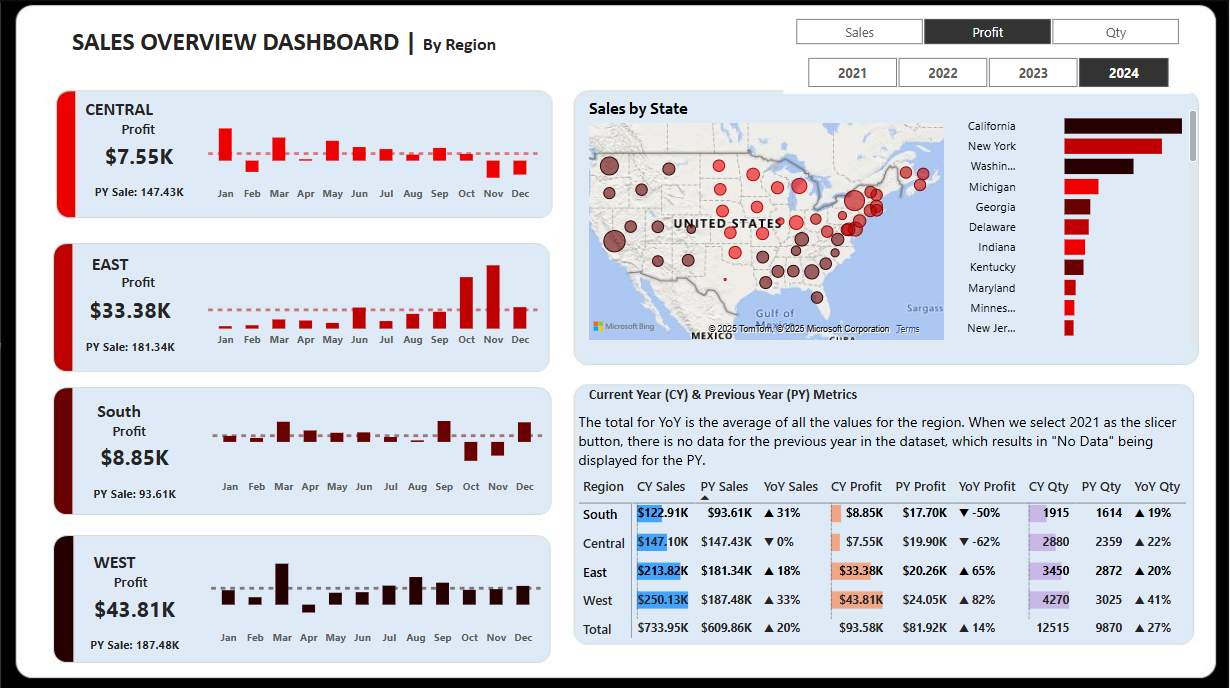

What the dashboard file says about the page in this screenshot:
{"tool":"powerbi","page":{"name":"Page 1","canvas":[1280,720],"ordinal":0},"visuals":[{"type":"slicer","fields":{"Values":["Select Metric.Select Metric"]},"box":[804.3,12.5,448.2,40.6],"z":0},{"type":"card","fields":{"Values":["Sales Data.Total Sales"]},"box":[68.7,140.6,156.2,45.3],"z":1000},{"type":"textbox","box":[79.7,96.8,90.6,43.7],"z":2000},{"type":"slicer","fields":{"Values":["Calendar Table.Year"]},"box":[817,52.5,424.4,44.5],"z":3000},{"type":"card","fields":{"Values":["Sales Data.Dynamic Title"]},"box":[79.7,118.7,132.8,35.9],"z":4000},{"type":"card","fields":{"Values":["Sales Data.PY KPI Sales"]},"box":[79.7,185.9,132.8,32.8],"z":5000},{"type":"clusteredColumnChart","fields":{"Y":["Sales Data.Total Sales"],"Category":["Calendar Table.Month"]},"box":[212.4,106.2,354.5,112.5],"z":6000},{"type":"textbox","box":[32.8,21.9,534.1,48.4],"z":7000},{"type":"card","fields":{"Values":["Sales Data.Total Sales"]},"box":[60,301.5,156.2,45.3],"z":8000},{"type":"textbox","box":[70.9,257.8,90.6,43.7],"z":9000},{"type":"card","fields":{"Values":["Sales Data.PY KPI Sales"]},"box":[70.9,346.8,132.8,32.8],"z":10000},{"type":"clusteredColumnChart","fields":{"Y":["Sales Data.Total Sales"],"Category":["Calendar Table.Month"]},"box":[212.4,257.7,354.5,112.5],"z":11000},{"type":"card","fields":{"Values":["Sales Data.Total Sales"]},"box":[64.8,455.2,156.2,45.3],"z":12000},{"type":"textbox","box":[79.7,410.8,90.6,43.7],"z":13000},{"type":"card","fields":{"Values":["Sales Data.PY KPI Sales"]},"box":[75.7,500.5,132.8,32.8],"z":14000},{"type":"clusteredColumnChart","fields":{"Y":["Sales Data.Total Sales"],"Category":["Calendar Table.Month"]},"box":[217.2,411.4,354.5,112.5],"z":15000},{"type":"card","fields":{"Values":["Sales Data.Total Sales"]},"box":[63.7,612.5,156.2,45.3],"z":16000},{"type":"textbox","box":[74.7,568.7,90.6,43.7],"z":17000},{"type":"card","fields":{"Values":["Sales Data.PY KPI Sales"]},"box":[74.7,657.7,132.8,32.8],"z":18000},{"type":"clusteredColumnChart","fields":{"Y":["Sales Data.Total Sales"],"Category":["Calendar Table.Month"]},"box":[216.2,568.6,354.5,112.5],"z":19000},{"type":"card","fields":{"Values":["Sales Data.Dynamic Title"]},"box":[79.7,278,132.8,35.9],"z":20000},{"type":"card","fields":{"Values":["Sales Data.Dynamic Title"]},"box":[70.3,432.6,132.8,35.9],"z":21000},{"type":"card","fields":{"Values":["Sales Data.Dynamic Title"]},"box":[71.8,589.6,132.3,35.9],"z":22000},{"type":"map","title":"Sales by State","fields":{"Size":["Sales Data.Total Sales"],"Category":["Sales Data.State/Province"],"Series":["Sales Data.Region"]},"box":[609.1,101.5,379.5,257.7],"z":23000},{"type":"barChart","fields":{"Y":["Sales Data.Total Sales"],"Category":["Sales Data.State/Province"],"Series":["Sales Data.Region"]},"box":[988.6,101.5,263.9,262.4],"z":24000},{"type":"pivotTable","fields":{"Rows":["Sales Data.Region"],"Values":["Sales Data.CY Sales","Sales Data.PY Sales","Sales Data.YoY Sales","Sales Data.CY Profit","Sales Data.PY Profit","Sales Data.YoY Profit","Sales Data.CY Qty","Sales Data.PY Qty","Sales Data.YoY Qty"]},"box":[598.2,490.4,643.5,190.5],"z":25000},{"type":"textbox","box":[609.1,395.1,299.9,37.5],"z":25001},{"type":"textbox","box":[598.2,423.3,654.4,76.5],"z":25002}]}

Visuals, with their boxes in screenshot pixels (x1, y1, x2, y2), scaled from the page's 1280x720 canvas onto the 1230x688 screenshot:
slicer - Select Metric.Select Metric: (773,12,1204,51)
card - Sales Data.Total Sales: (66,134,216,178)
textbox: (77,92,164,134)
slicer - Calendar Table.Year: (785,50,1193,93)
card - Sales Data.Dynamic Title: (77,113,204,148)
card - Sales Data.PY KPI Sales: (77,178,204,209)
clusteredColumnChart - Sales Data.Total Sales x Calendar Table.Month: (204,101,545,209)
textbox: (32,21,545,67)
card - Sales Data.Total Sales: (58,288,208,331)
textbox: (68,246,155,288)
card - Sales Data.PY KPI Sales: (68,331,196,363)
clusteredColumnChart - Sales Data.Total Sales x Calendar Table.Month: (204,246,545,354)
card - Sales Data.Total Sales: (62,435,212,478)
textbox: (77,393,164,434)
card - Sales Data.PY KPI Sales: (73,478,200,510)
clusteredColumnChart - Sales Data.Total Sales x Calendar Table.Month: (209,393,549,501)
card - Sales Data.Total Sales: (61,585,211,629)
textbox: (72,543,159,585)
card - Sales Data.PY KPI Sales: (72,628,199,660)
clusteredColumnChart - Sales Data.Total Sales x Calendar Table.Month: (208,543,548,651)
card - Sales Data.Dynamic Title: (77,266,204,300)
card - Sales Data.Dynamic Title: (68,413,195,448)
card - Sales Data.Dynamic Title: (69,563,196,598)
"Sales by State" map: (585,97,950,343)
barChart - Sales Data.Total Sales x Sales Data.State/Province: (950,97,1204,348)
pivotTable - Sales Data.Region x Sales Data.CY Sales: (575,469,1193,651)
textbox: (585,378,873,413)
textbox: (575,404,1204,478)
